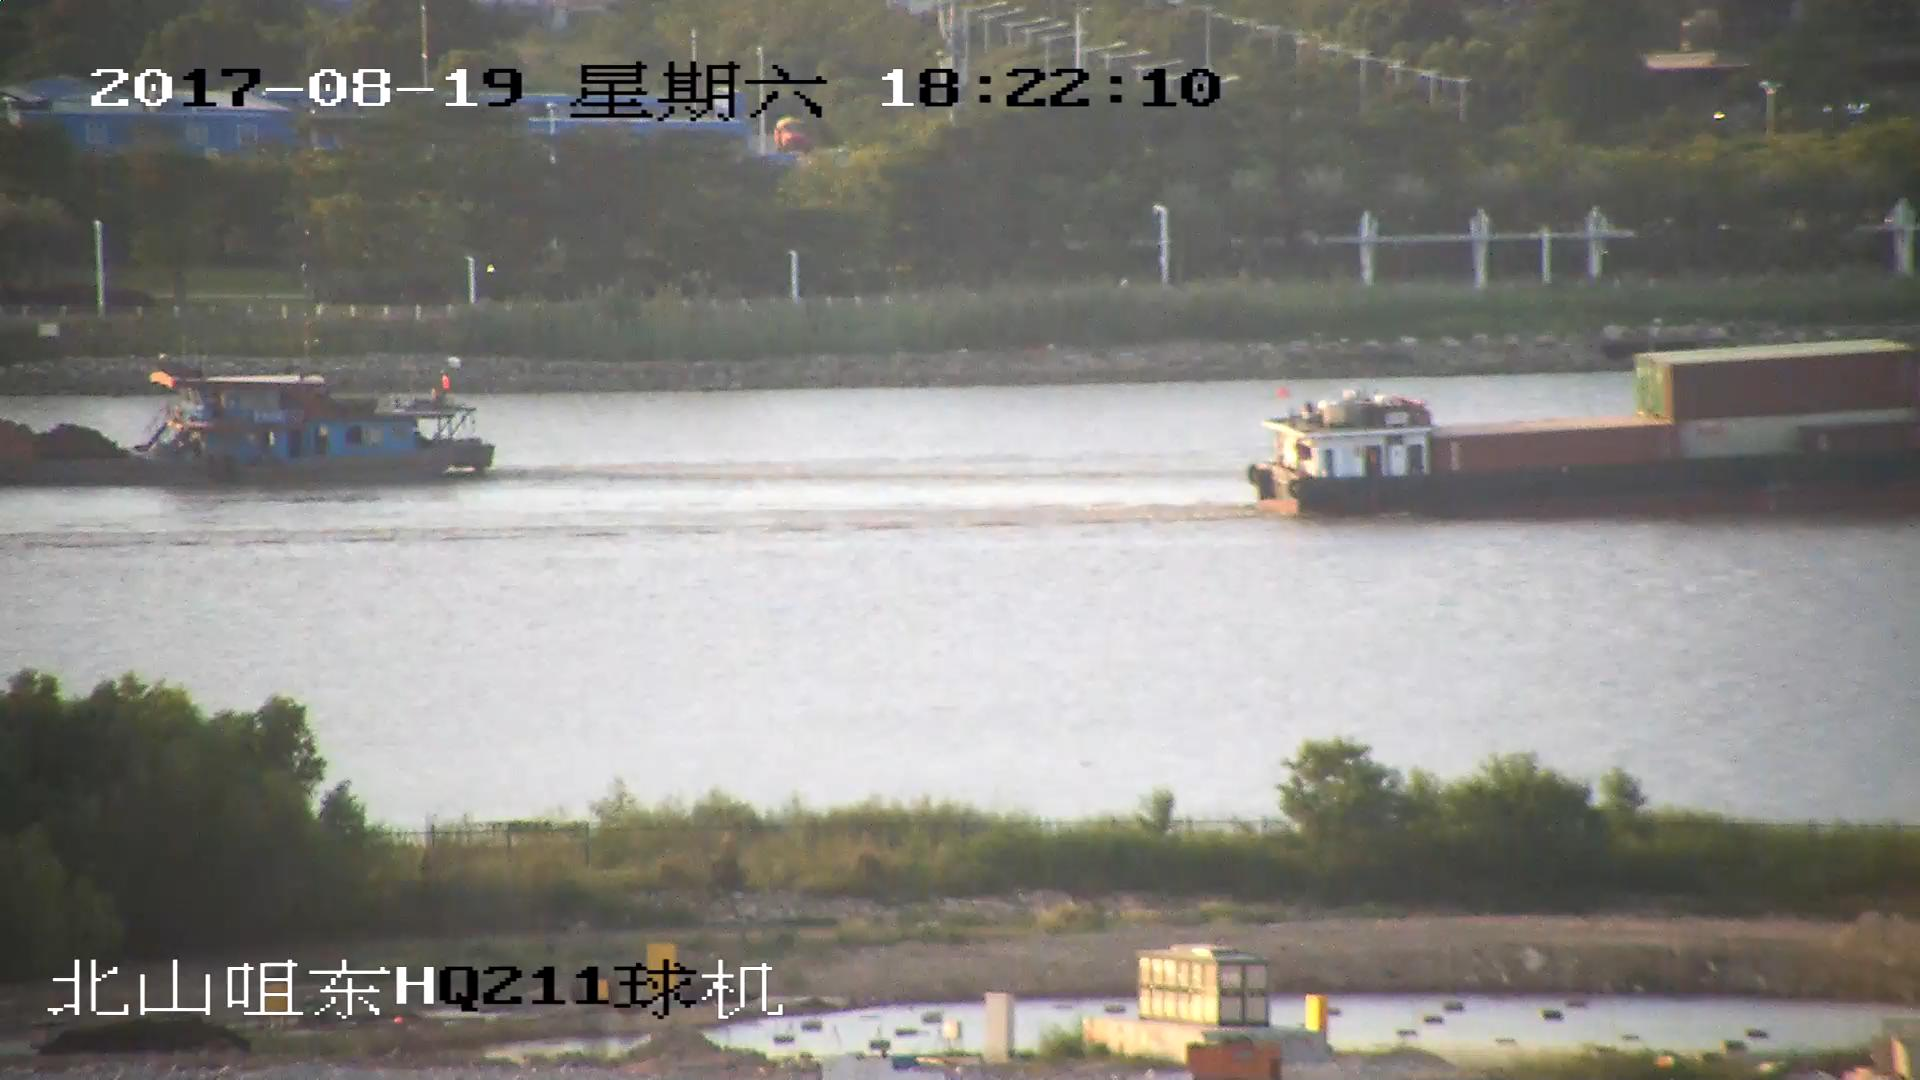container ship: (1252, 334, 1920, 516)
ore carrier: (1, 366, 503, 488)
